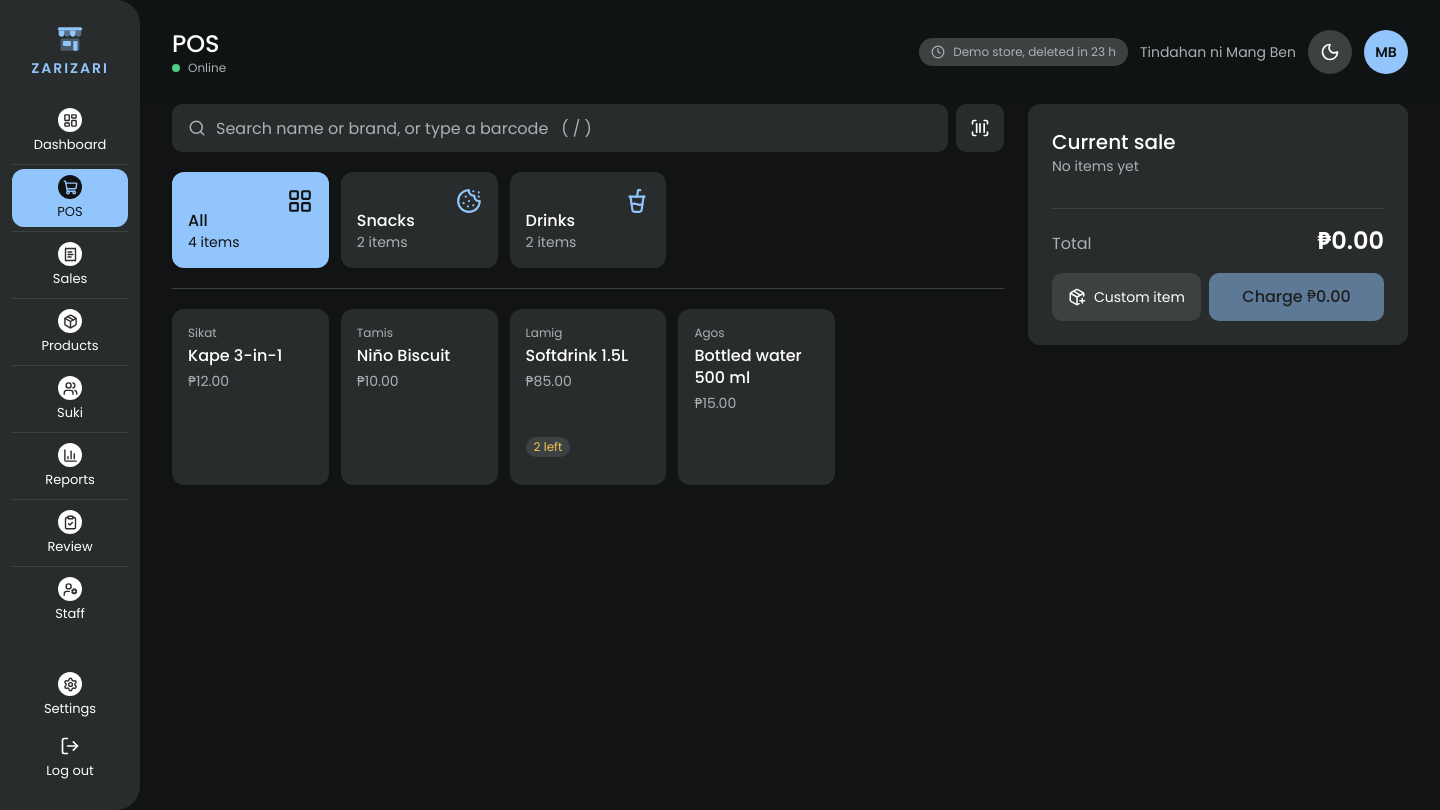
scanning at the POS (spec 10) › offers the owner to add an unknown barcode as a product, with the barcode filled in
Step 1. Click the button named "Scan a barcode" → (980, 128), box [956, 104, 1004, 152]
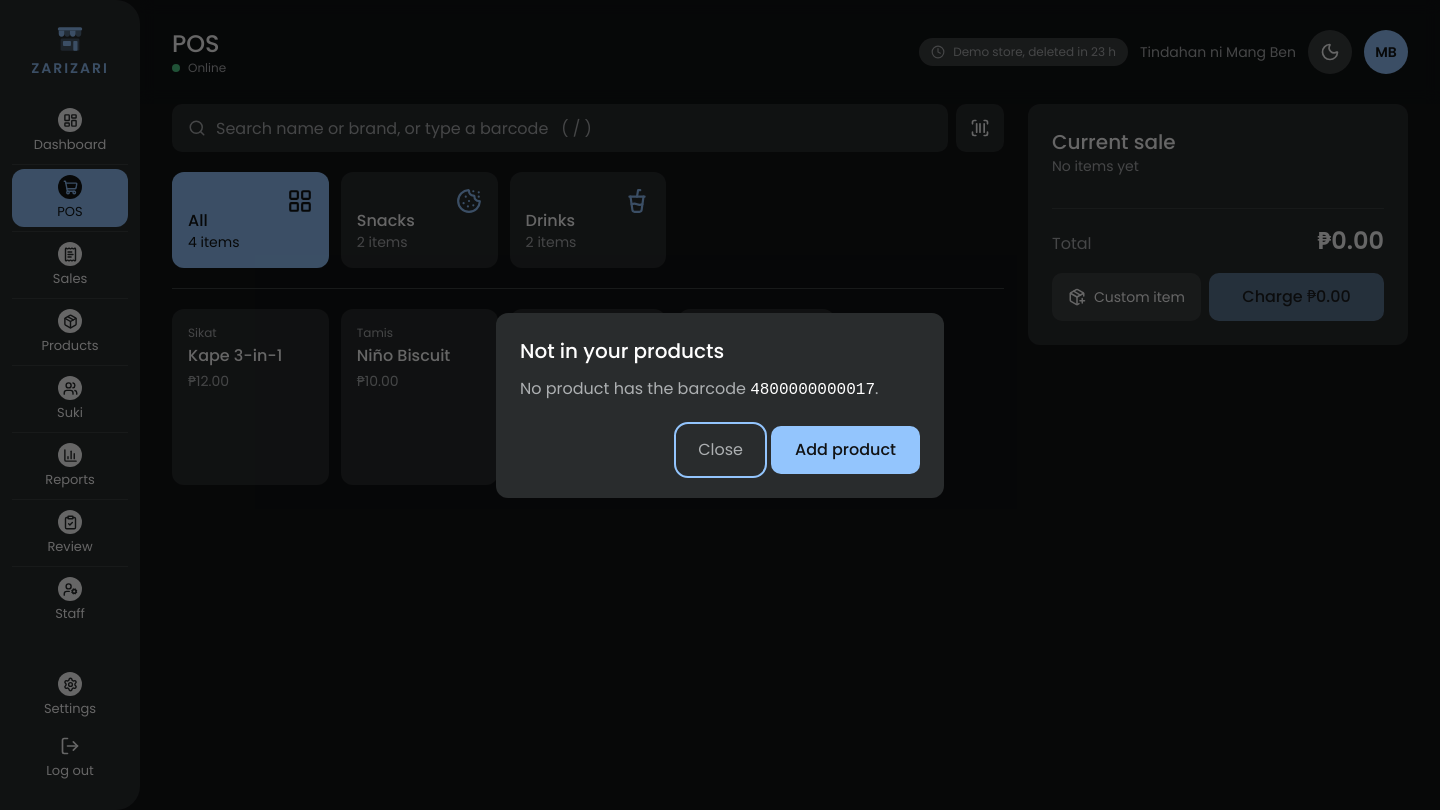
Step 2. Click the link "Add product" → (846, 450), box [771, 426, 920, 474]
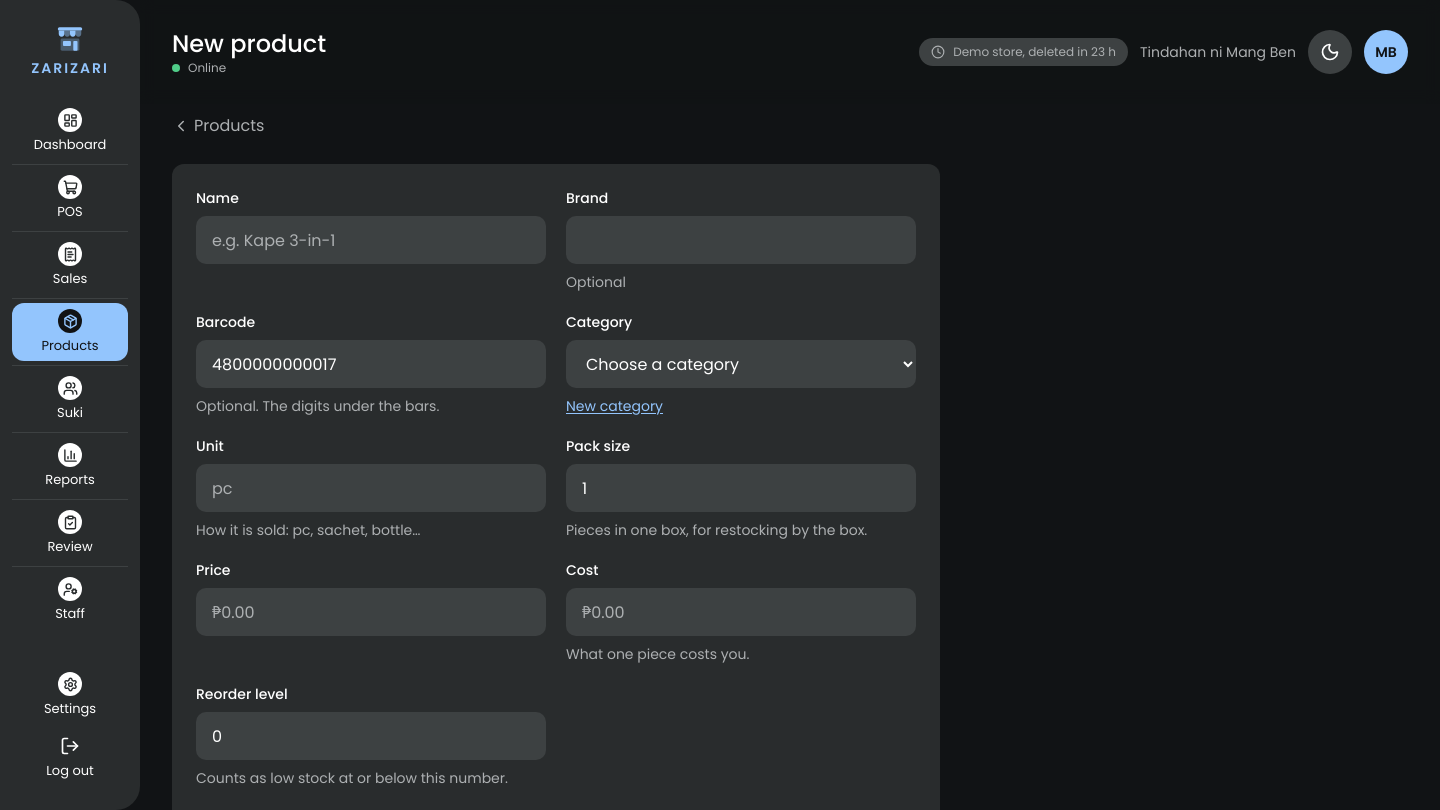
Expected: the field labelled "Barcode" holds "4800000000017", [196, 340, 546, 388]
